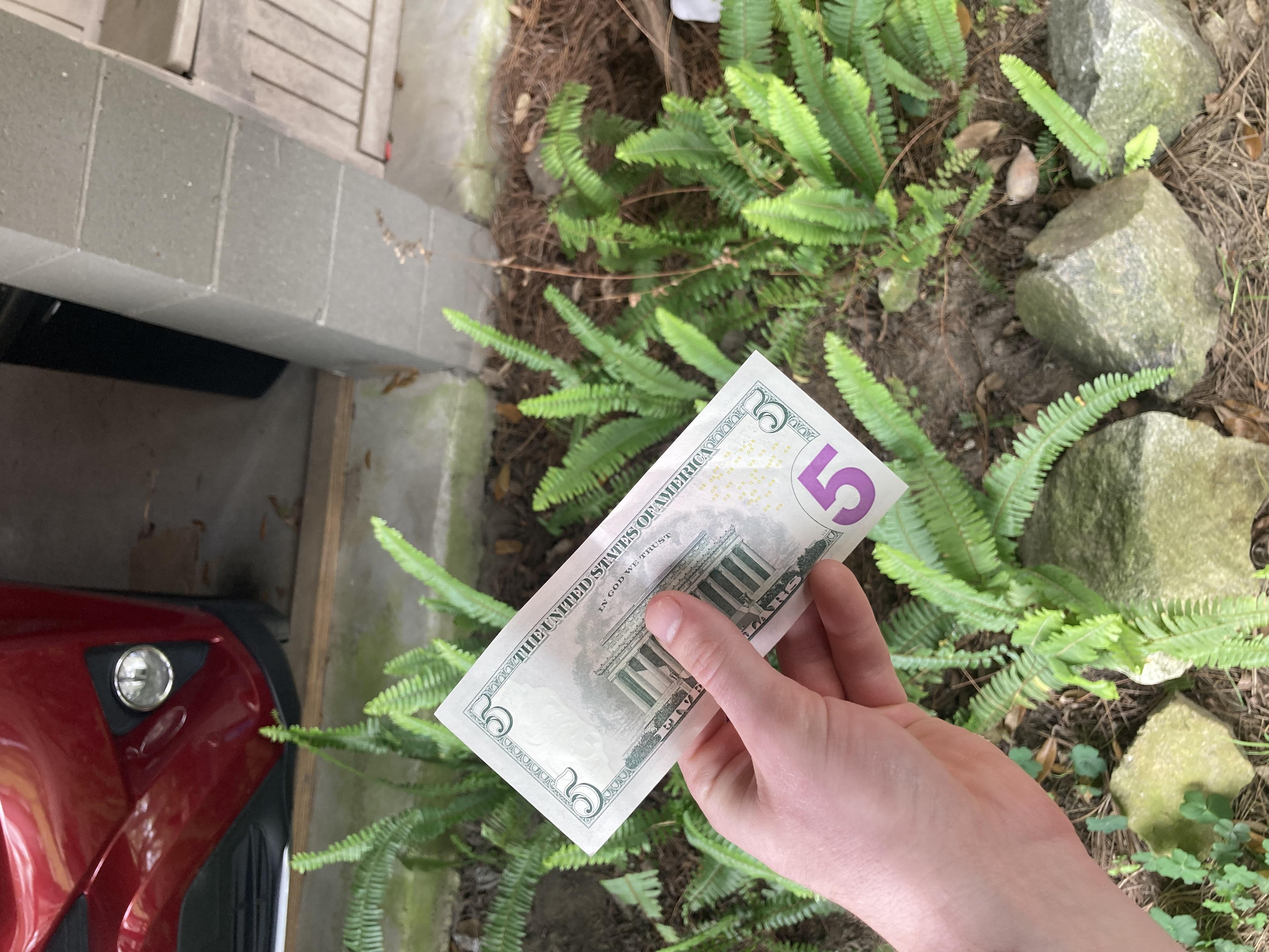five-back: (129, 326, 805, 681)
